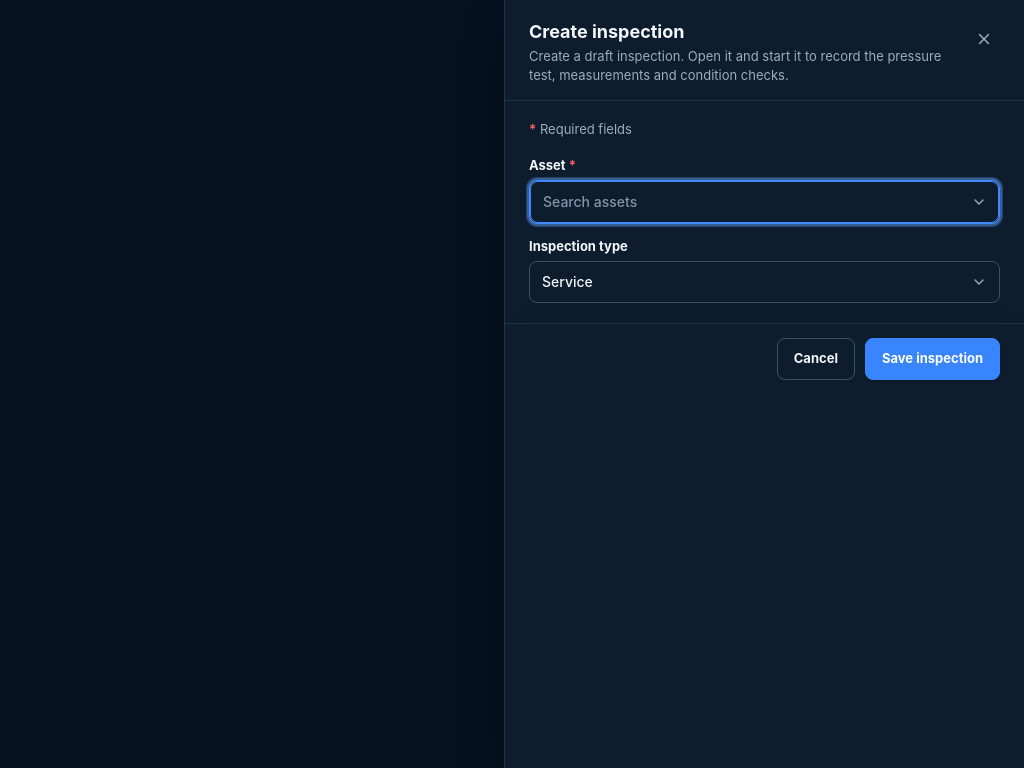
new inspection (staff) › reports a create failure
This screenshot has width=1024, height=768.
Click the dropdown named "Inspection asset" at (764, 202), box top-left (530, 181), bottom-right (999, 223)
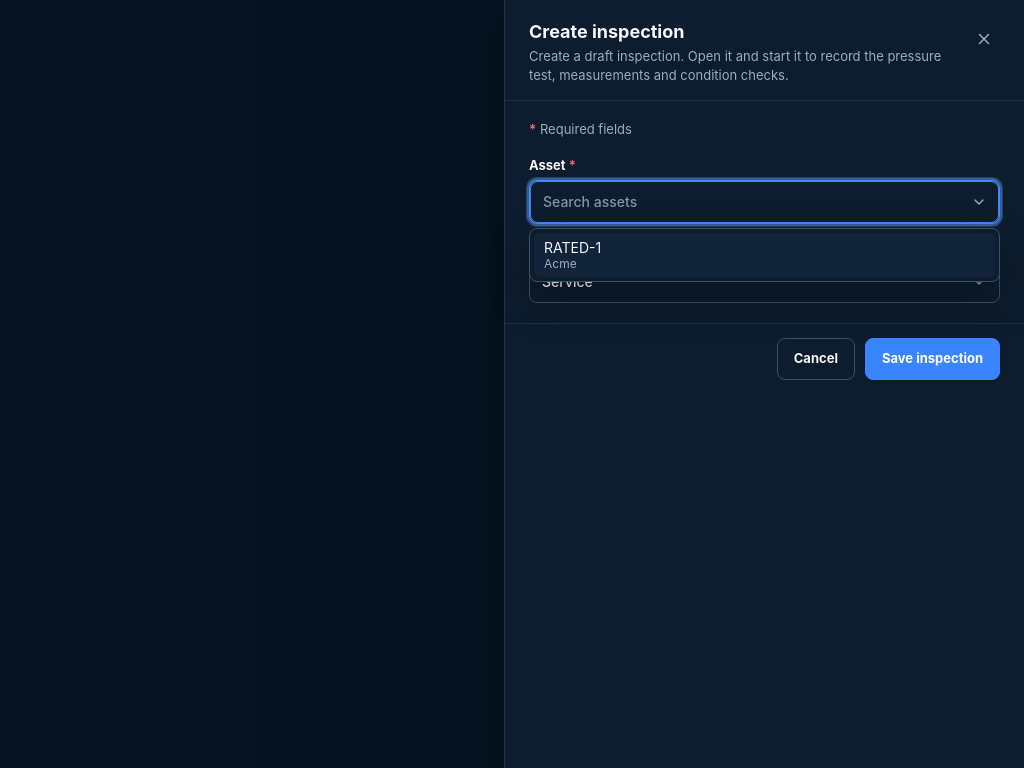
Click the option "RATED-1 Acme" at (573, 247), box top-left (534, 233), bottom-right (995, 277)
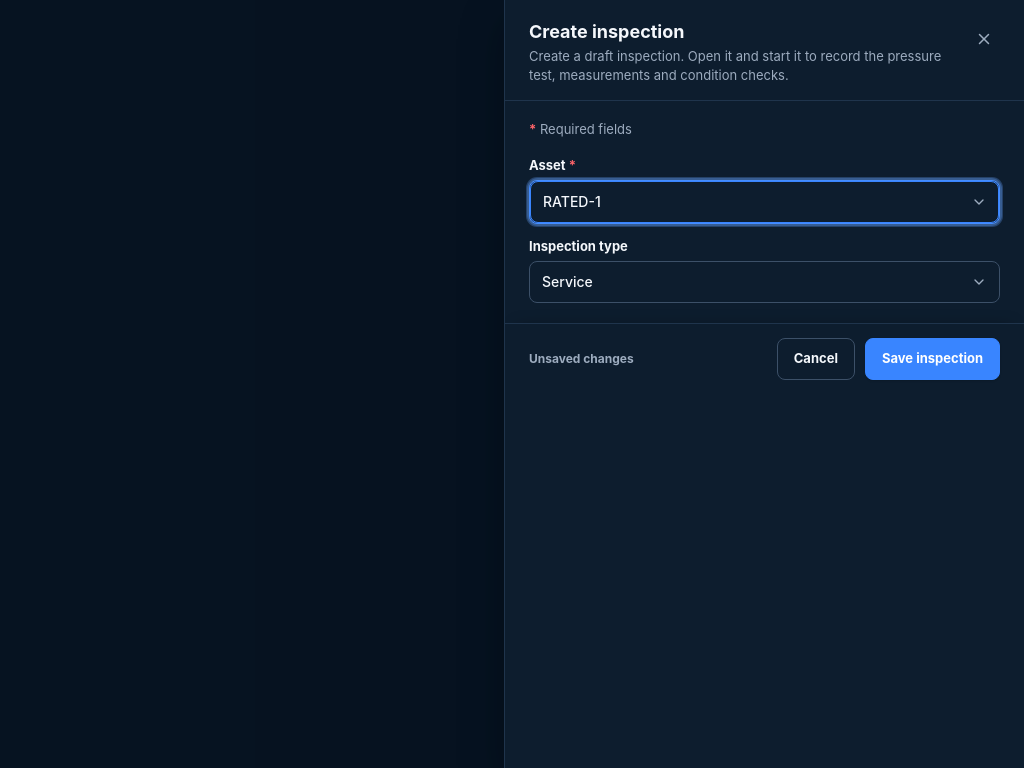
Click the button "Save inspection" at (932, 359), box top-left (865, 338), bottom-right (1000, 380)
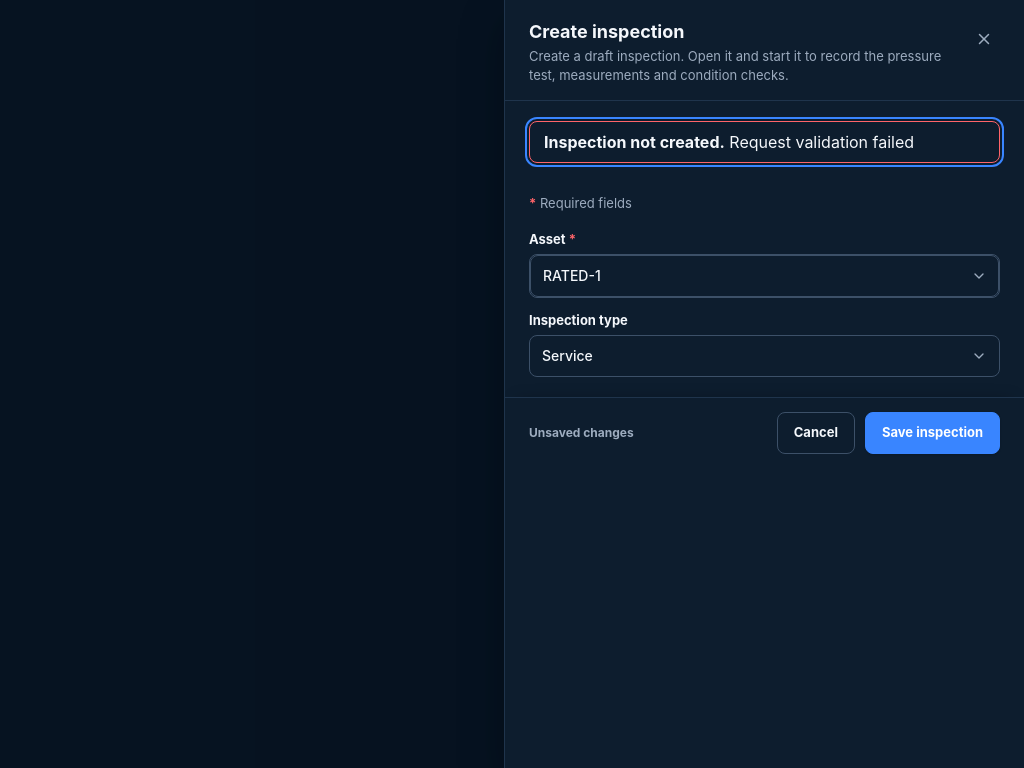
Now the message shows "Request validation failed", box top-left (729, 132), bottom-right (914, 152)
